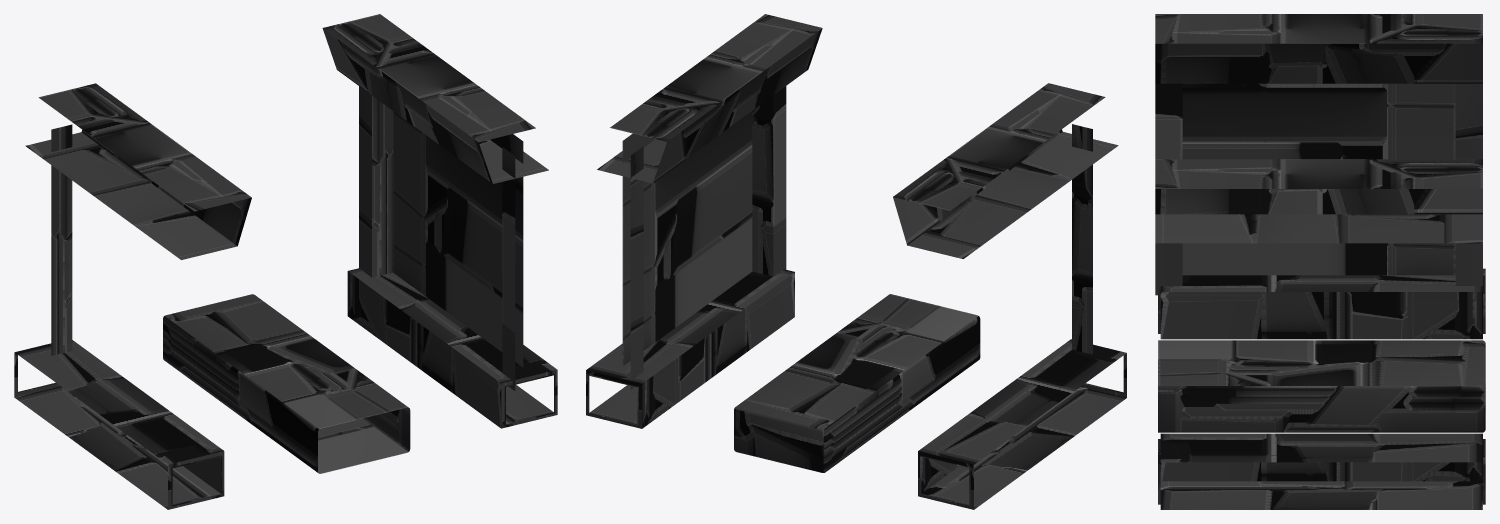
File: item.fbx
The picture shows the model from 3 angles, left to right: view 1: azimuth 30°, elevation 25°; view 2: azimuth 150°, elevation 25°; view 3: azimuth 270°, elevation 25°; orthographic projection. The views are drawn at different scales.
Parts seen in each view (by area): view 1: Plane.005, Plane.003; view 2: Plane.005, Plane.003; view 3: Plane.005, Plane.003.
Part boxes in pixels (left/top/right/bottom): Plane.005: left=14, top=14, right=557, bottom=509; Plane.003: left=163, top=294, right=410, bottom=473; Plane.005: left=586, top=14, right=1126, bottom=509; Plane.003: left=734, top=294, right=980, bottom=472; Plane.005: left=1155, top=14, right=1485, bottom=509; Plane.003: left=1158, top=340, right=1485, bottom=432.
Size of the model in its own units: 1800 by 1300 by 1260.
